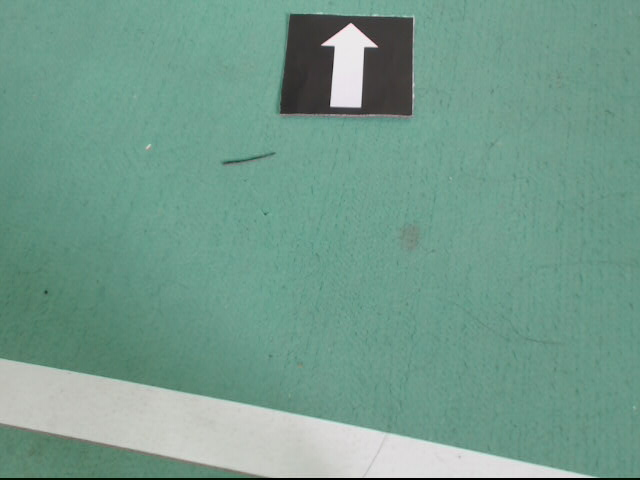straight: (275, 14, 418, 114)
